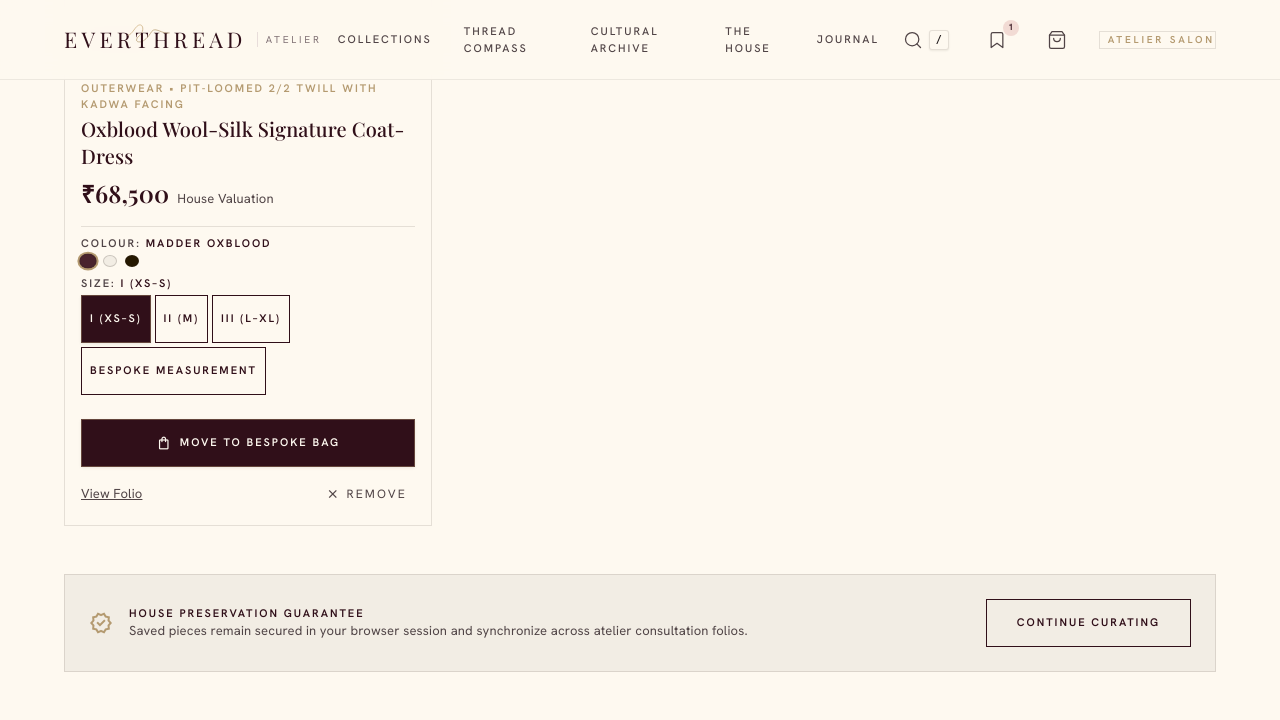
Test: EverThread Stage 3.5: Saved Pieces & Shopping Bag Suite › 2. Saved Pieces Curation & Move-to-Bag Integration › removes piece when clicking the Remove action on /saved
The image size is (1280, 720).
(page scrolled)
Click the button with test id "remove-saved-et-01".
click(366, 494)  # box [317,479,415,509]
(page scrolled)
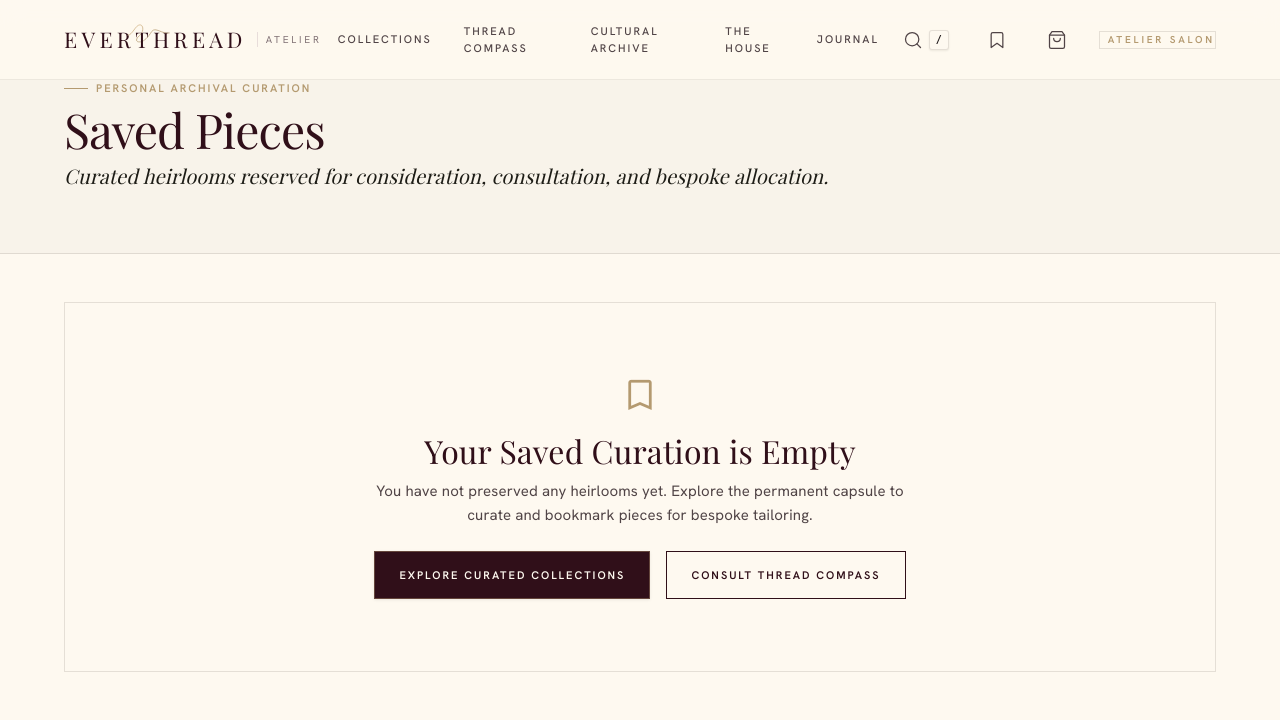
Result: the element with test id "empty-saved-state" is shown at [64,302,1216,672]
